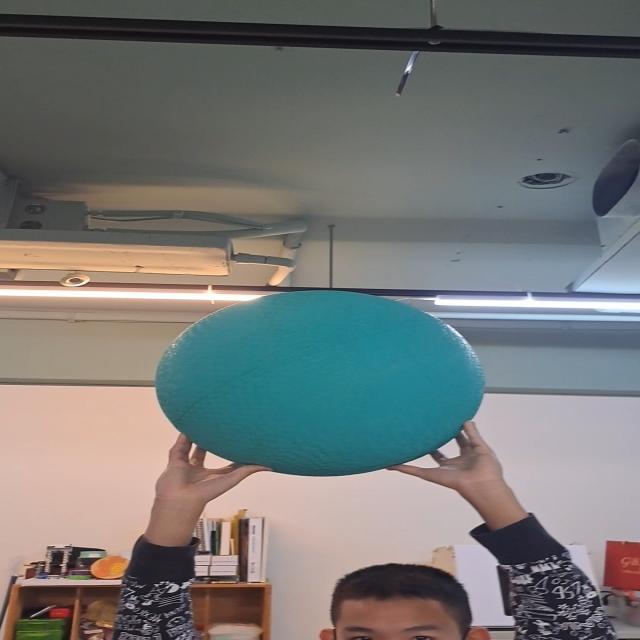ALGAE: (155, 292, 484, 476)
